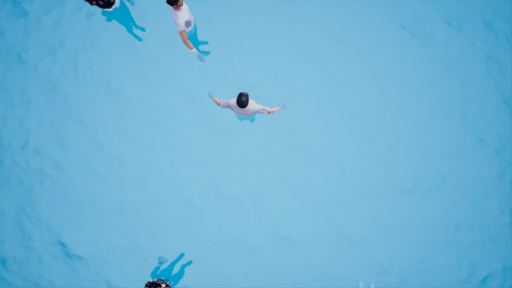person: (162, 1, 217, 65), (207, 87, 286, 129)
